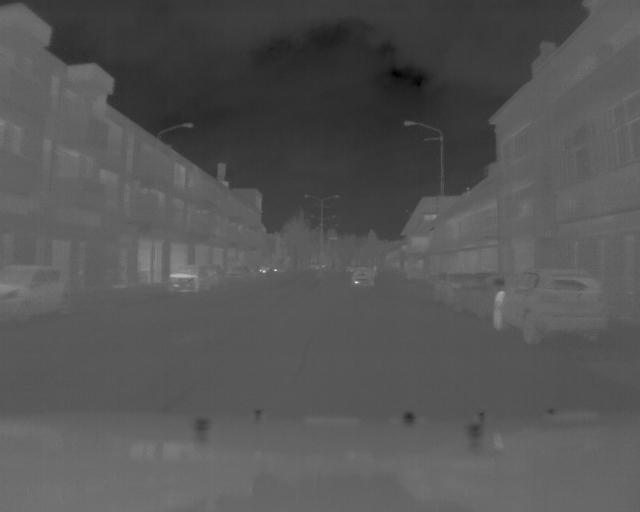car: (492, 267, 617, 352), (1, 260, 75, 326), (450, 270, 511, 315), (159, 260, 214, 296), (430, 267, 473, 306), (345, 265, 383, 290)
